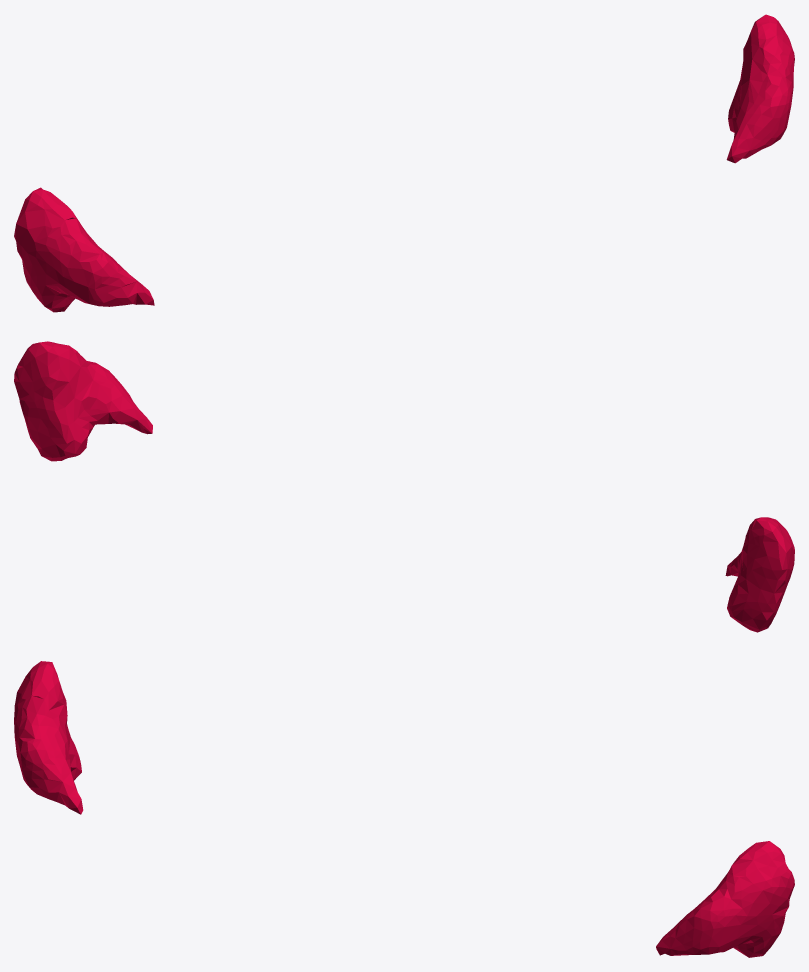
The model's file is 207-ST2g-superior temporal sulcus area, gyral part-('1.0000', '0.0000', '0.3059').obj.
3 renders of one model, top to bottom at view 1: azimuth 30°, elevation 25°; view 2: azimuth 150°, elevation 25°; view 3: azimuth 330°, elevation 25°, orthographic.
Bounding box in the file's own units: 339 × 50.04 × 35.78.
